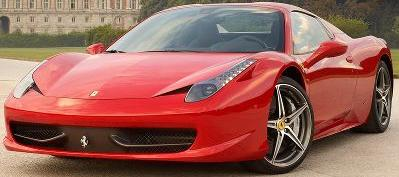front_view: (4, 53, 271, 160)
headlight: (167, 46, 257, 113)
side_glass: (281, 6, 346, 58)
